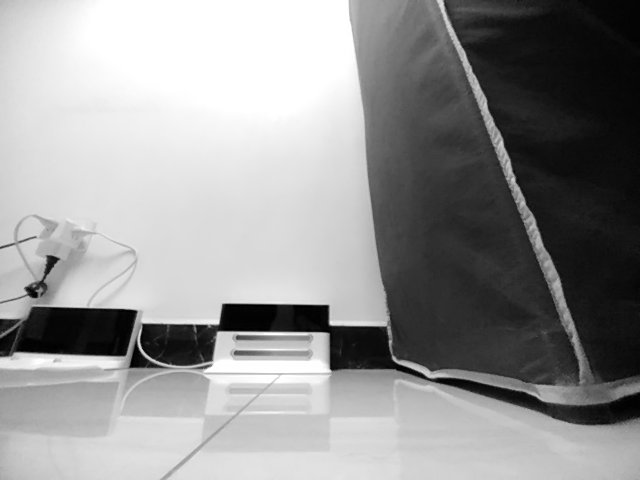Ruby: (203, 300, 332, 374)
TanosV: (1, 307, 141, 371)
wire: (136, 325, 213, 369)
